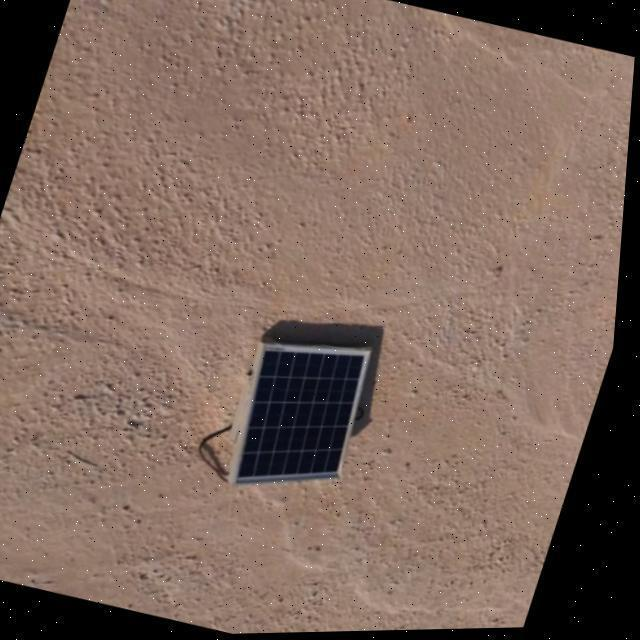Normal Solar Panel: (226, 326, 386, 508)
